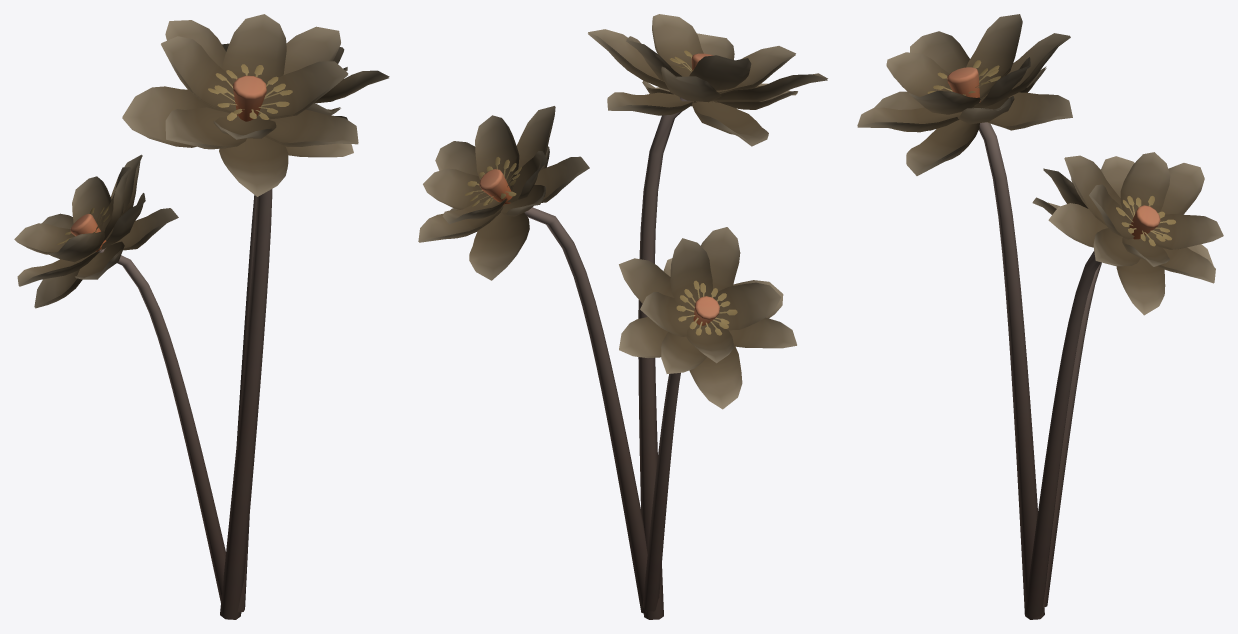
Rendered from OBJ_BrassFlower.fbx.
The picture shows the model from 3 angles, left to right: view 1: azimuth 30°, elevation 25°; view 2: azimuth 150°, elevation 25°; view 3: azimuth 270°, elevation 25°; orthographic projection. The views are drawn at different scales.
Visible parts, largest first — view 1: OBJ_BrassFlower; view 2: OBJ_BrassFlower; view 3: OBJ_BrassFlower.
Boxes of the visible parts, left/top/right/bottom form: OBJ_BrassFlower: left=14, top=14, right=389, bottom=619; OBJ_BrassFlower: left=418, top=14, right=827, bottom=619; OBJ_BrassFlower: left=857, top=14, right=1223, bottom=619.
Bounding box in the file's own units: 70.47 × 108 × 63.34.
